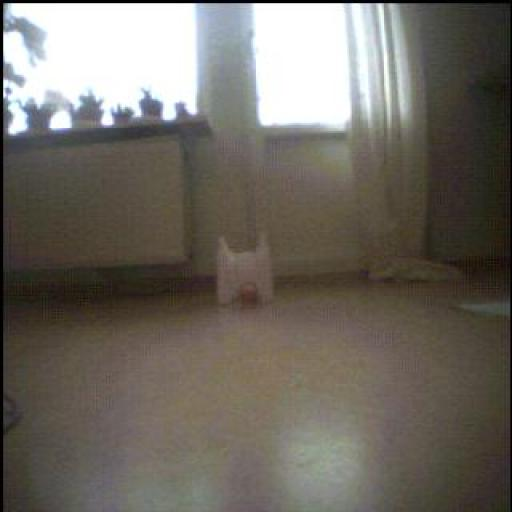Basket: (234, 281, 263, 310)
